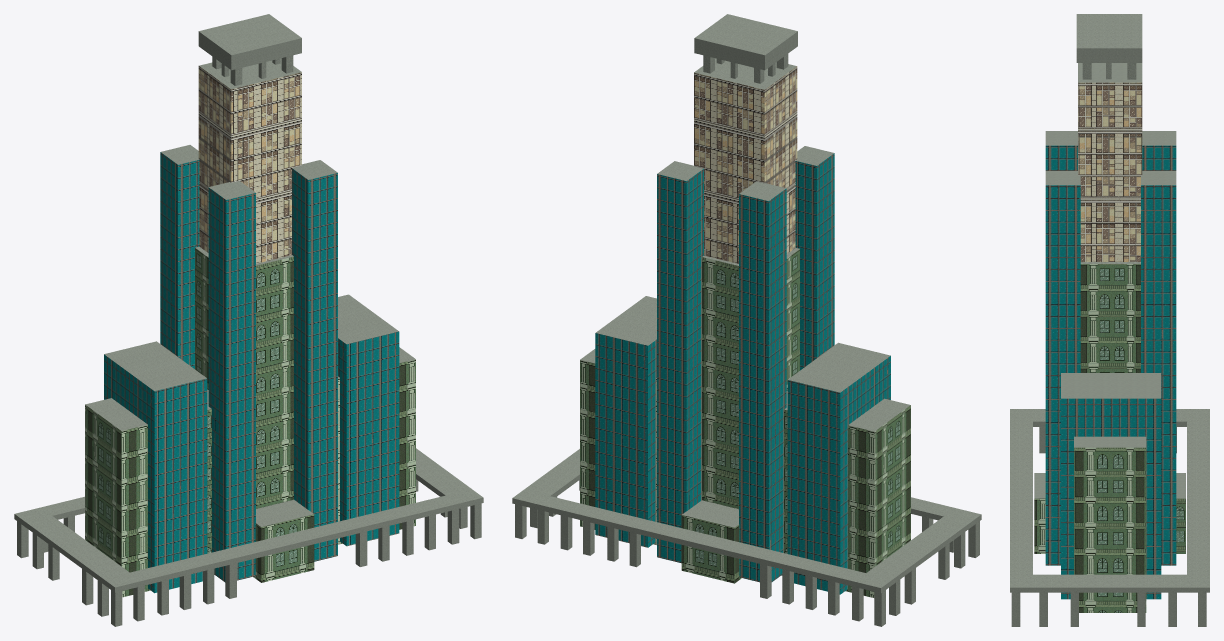
File: BGN_BCW TOWER 2.fbx
3 views of the same model, side by side, from view 1: azimuth 30°, elevation 25°; view 2: azimuth 150°, elevation 25°; view 3: azimuth 270°, elevation 25° (orthographic).
Visible parts, largest first — view 1: BGN_BCW_TOWER_2, SPACE; view 2: BGN_BCW_TOWER_2, SPACE; view 3: BGN_BCW_TOWER_2, SPACE.
Boxes of the visible parts, bbox=[...] form: BGN_BCW_TOWER_2: bbox=[85, 14, 415, 597]; SPACE: bbox=[14, 448, 483, 626]; BGN_BCW_TOWER_2: bbox=[580, 14, 910, 597]; SPACE: bbox=[512, 449, 981, 626]; BGN_BCW_TOWER_2: bbox=[1034, 14, 1185, 612]; SPACE: bbox=[1010, 409, 1209, 626].
Size of the model in its own units: 7213 by 9613 by 3411.
